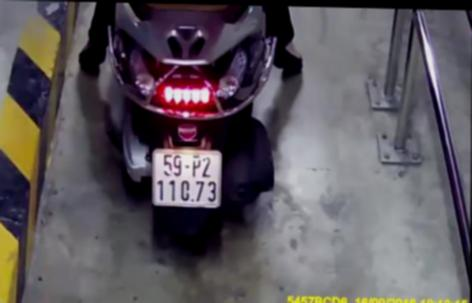License_Plate: (146, 144, 227, 218)
